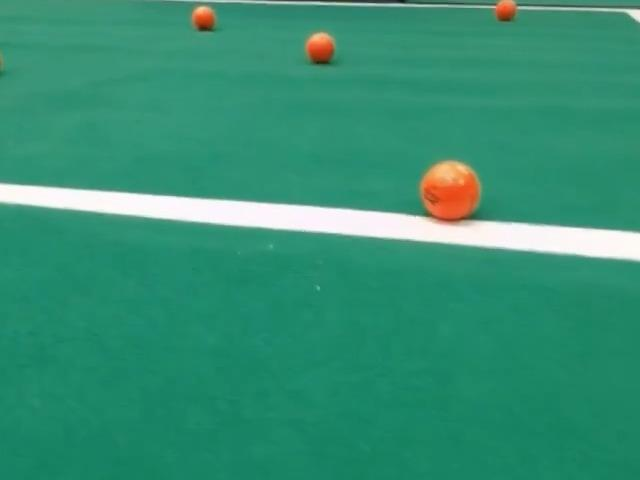Ball: (420, 160, 480, 221), (305, 32, 335, 63), (192, 6, 215, 31), (494, 0, 518, 22)
